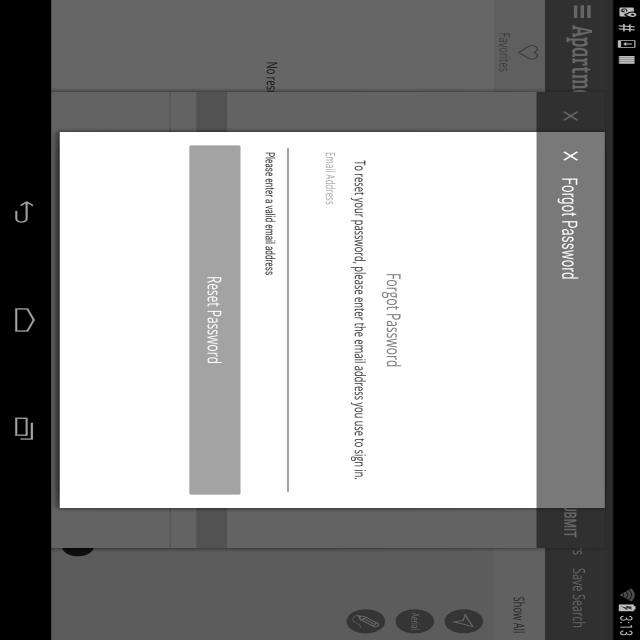Button: (185, 142, 246, 498)
EditText: (280, 140, 342, 496)
ImageButton: (443, 607, 485, 633), (344, 607, 386, 633), (393, 609, 432, 633), (564, 4, 596, 20), (555, 148, 585, 164), (558, 110, 586, 124)
TextView: (551, 173, 587, 283), (378, 268, 407, 368), (561, 26, 594, 94), (564, 566, 592, 629)
